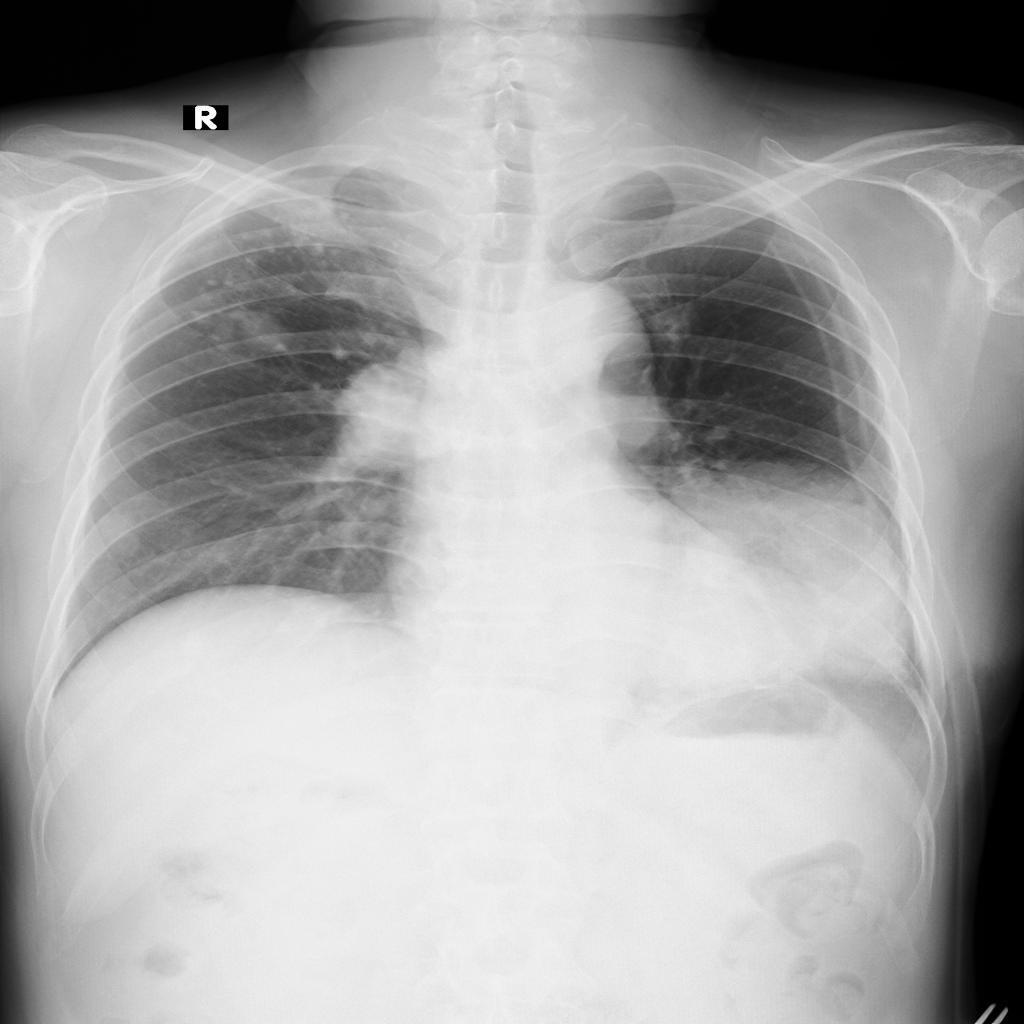Nodule: (672, 471, 910, 680), (332, 365, 446, 475)
